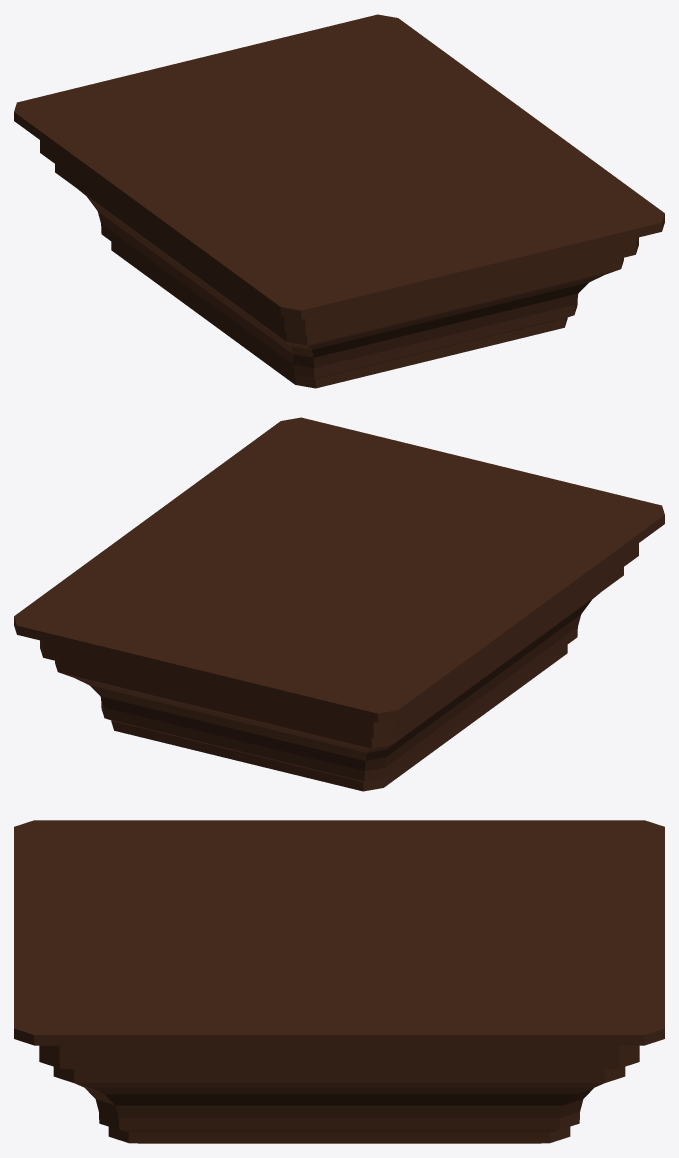
Rendered from top pillar.fbx.
3 views of the same model, one above another, from view 1: azimuth 30°, elevation 25°; view 2: azimuth 150°, elevation 25°; view 3: azimuth 270°, elevation 25° (orthographic). The views are drawn at different scales.
Visible parts, largest first — view 1: Cube; view 2: Cube; view 3: Cube.
Boxes of the visible parts, x1,y1,x2,y2 form: Cube: (14,14,664,388); Cube: (14,417,664,791); Cube: (14,820,664,1143).
Size of the model in its own units: 573 by 180 by 734.
